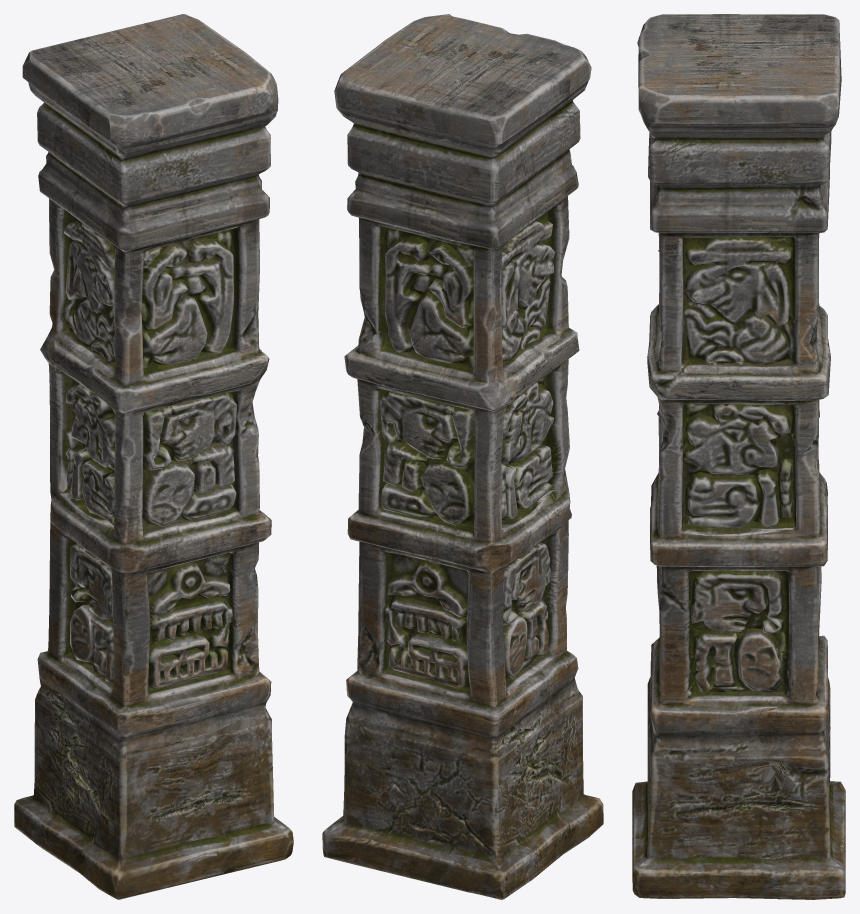
The model's file is SM_Pillar_D.fbx.
3 views of the same model, side by side, from view 1: azimuth 30°, elevation 25°; view 2: azimuth 150°, elevation 25°; view 3: azimuth 270°, elevation 25° (orthographic). The views are drawn at different scales.
Visible parts, largest first — view 1: SM_Pillar_D_LOD0; view 2: SM_Pillar_D_LOD0; view 3: SM_Pillar_D_LOD0.
Boxes of the visible parts, x1,y1,x2,y2 form: SM_Pillar_D_LOD0: [14, 14, 293, 899]; SM_Pillar_D_LOD0: [322, 14, 603, 899]; SM_Pillar_D_LOD0: [632, 14, 845, 899].
Bounding box in the file's own units: 187 × 180 × 745.
